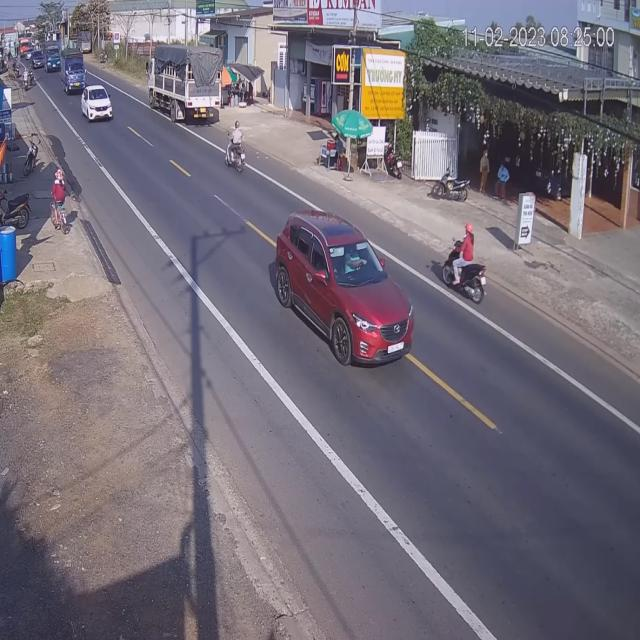car: (269, 212, 412, 368), (82, 84, 115, 122)
motorbike: (440, 226, 490, 305), (224, 119, 246, 174)
truck: (150, 44, 224, 125), (61, 48, 86, 96)
